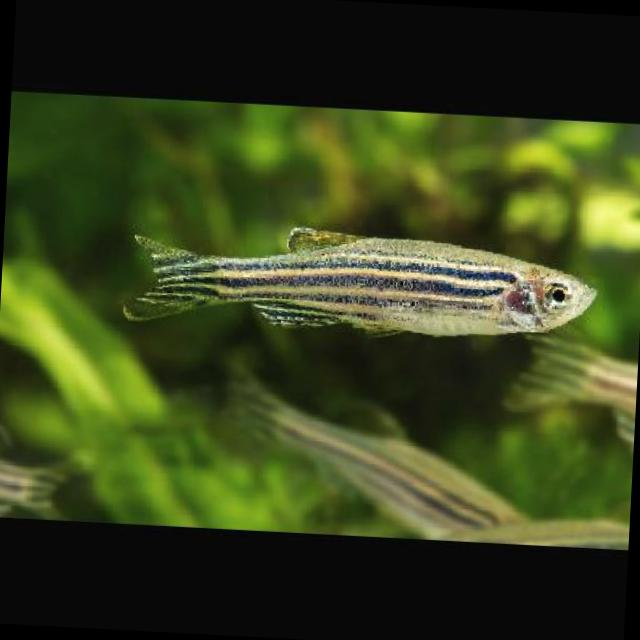ZebraFish: (125, 215, 599, 342)
